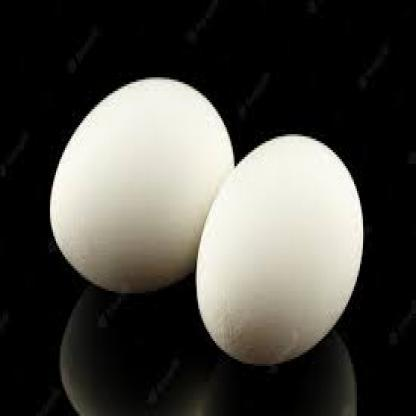egg: (50, 78, 236, 294), (197, 133, 364, 365)
